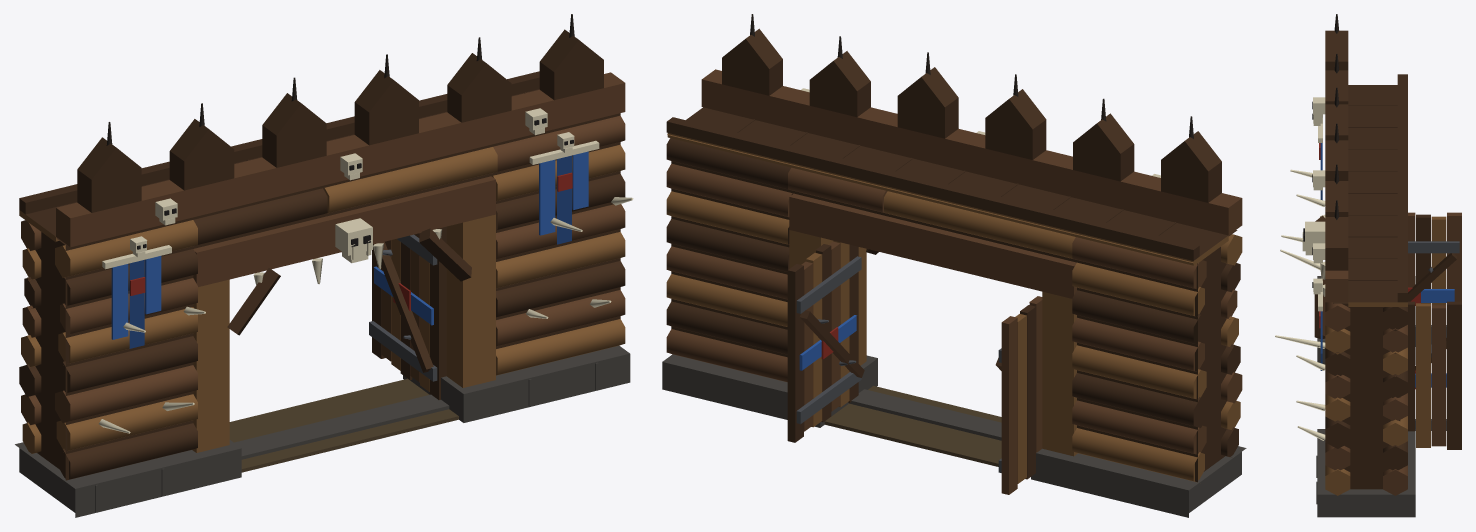
The model's file is orc-timber-gate-open.glb.
The picture shows the model from 3 angles, left to right: view 1: azimuth 30°, elevation 25°; view 2: azimuth 150°, elevation 25°; view 3: azimuth 270°, elevation 25°; orthographic projection. The views are drawn at different scales.
Visible parts, largest first — view 1: orc-timber-gate-open; view 2: orc-timber-gate-open; view 3: orc-timber-gate-open.
Boxes of the visible parts, <box> form: orc-timber-gate-open: <box>15,14,633,517</box>; orc-timber-gate-open: <box>662,14,1246,517</box>; orc-timber-gate-open: <box>1275,14,1461,517</box>.
Size of the model in its own units: 10 by 6.47 by 3.61.
1 material, 1 textured.
